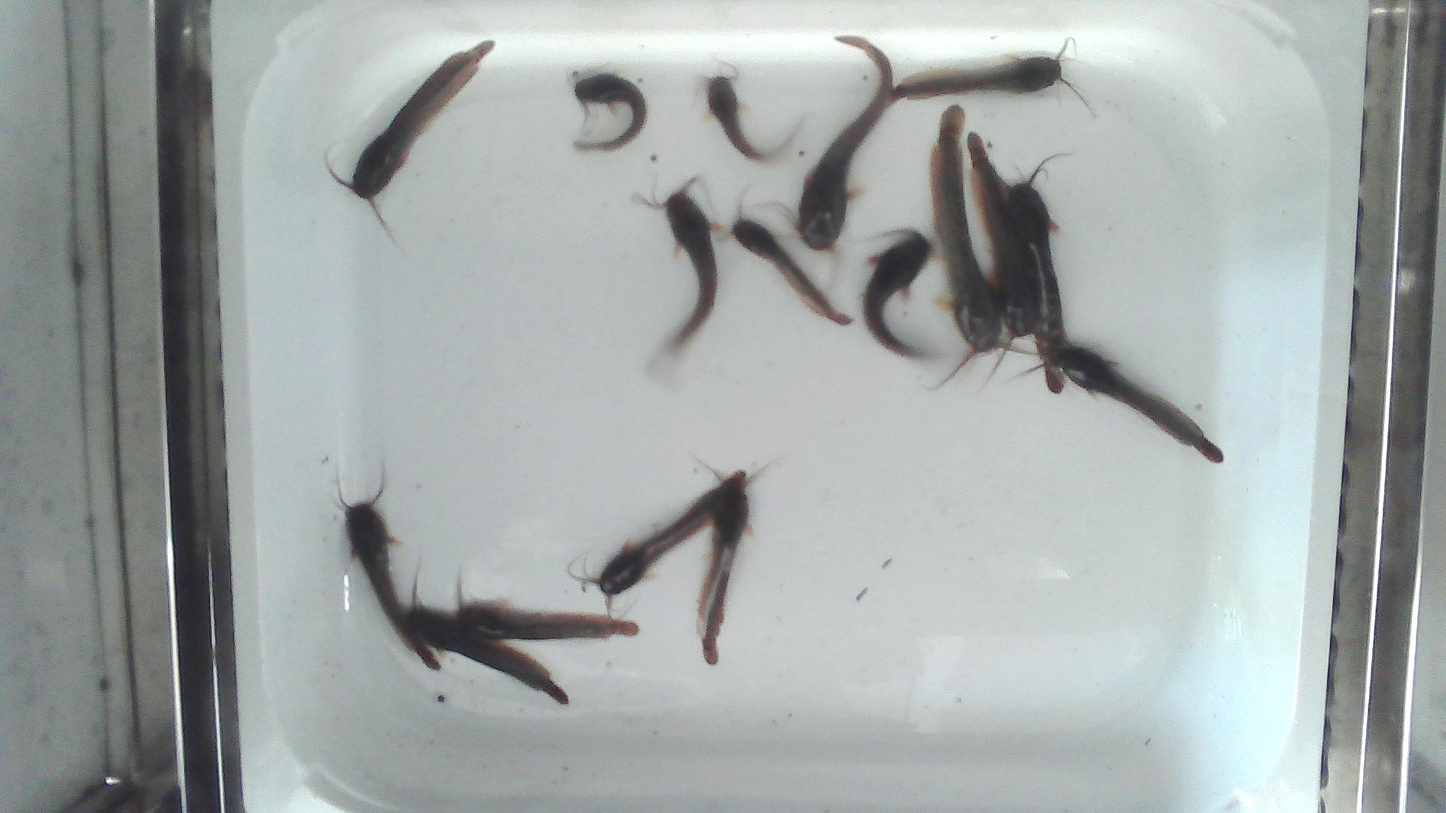lele: (328, 41, 495, 234), (929, 104, 1039, 382), (1013, 337, 1223, 467), (407, 567, 569, 707), (789, 37, 893, 253), (336, 480, 442, 672), (579, 486, 717, 615), (968, 131, 1040, 373), (994, 155, 1066, 394), (733, 197, 852, 323), (640, 176, 722, 350), (456, 570, 642, 641), (890, 39, 1080, 105), (696, 470, 757, 664), (862, 228, 935, 359), (706, 76, 788, 162), (573, 72, 648, 151)
